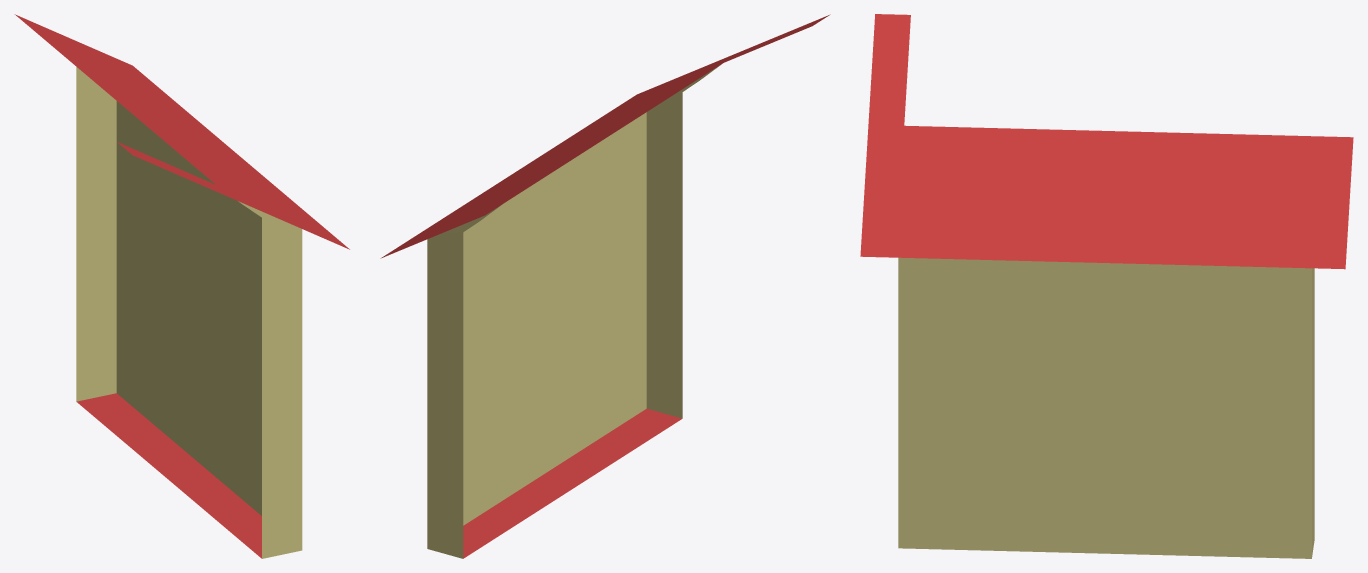
The picture shows the model from 3 angles, left to right: view 1: azimuth 30°, elevation 25°; view 2: azimuth 150°, elevation 25°; view 3: azimuth 270°, elevation 25°; orthographic projection. The views are drawn at different scales.
Bounding box in the file's own units: 7.57 × 13.74 × 13.71.
